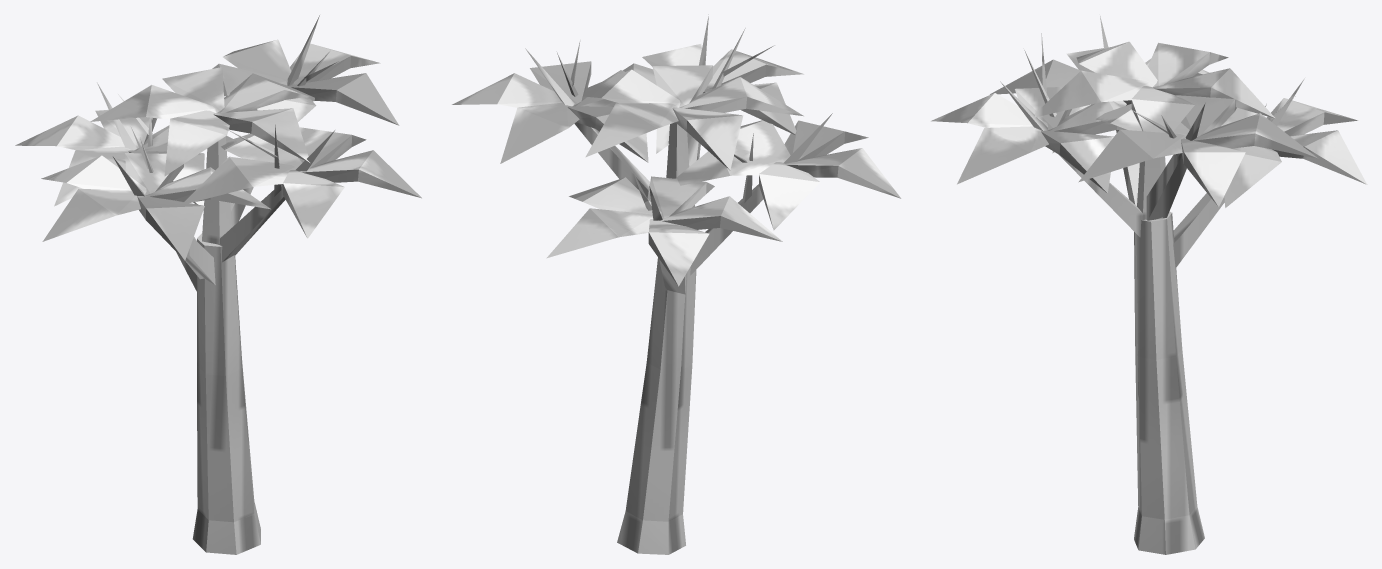
The model's file is tree_cecropia_2.obj.
The picture shows the model from 3 angles, left to right: view 1: azimuth 30°, elevation 25°; view 2: azimuth 150°, elevation 25°; view 3: azimuth 270°, elevation 25°; orthographic projection. The views are drawn at different scales.
Visible parts, largest first — view 1: tree_cecropia_2; view 2: tree_cecropia_2; view 3: tree_cecropia_2.
Part boxes in pixels (x1,y1,x2,y2): tree_cecropia_2: (15, 15, 421, 554); tree_cecropia_2: (452, 14, 901, 554); tree_cecropia_2: (931, 16, 1367, 554).
Bounding box in the file's own units: 0.8267 × 0.9706 × 0.7743.
